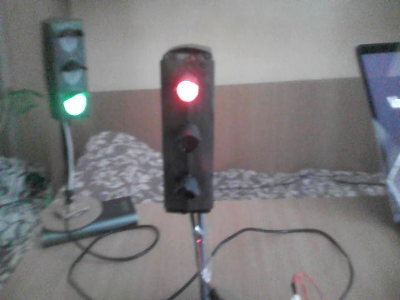trafficlight_green: (50, 20, 90, 118)
trafficlight_red: (161, 51, 213, 212)
